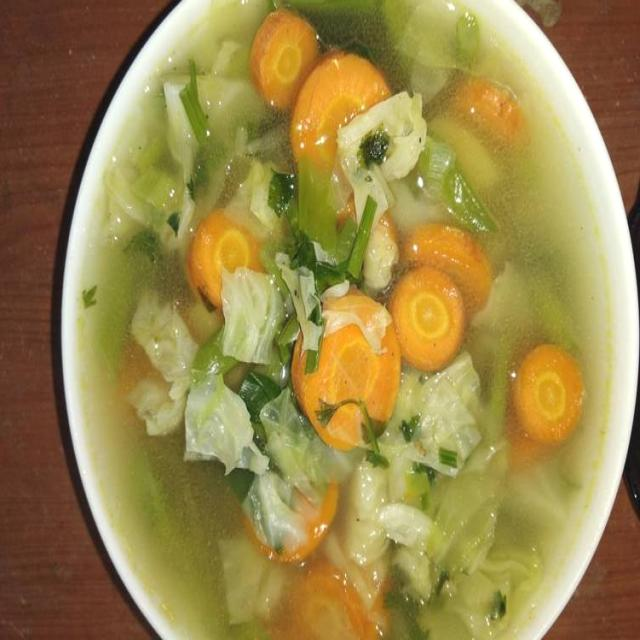sop: (53, 0, 640, 640)
